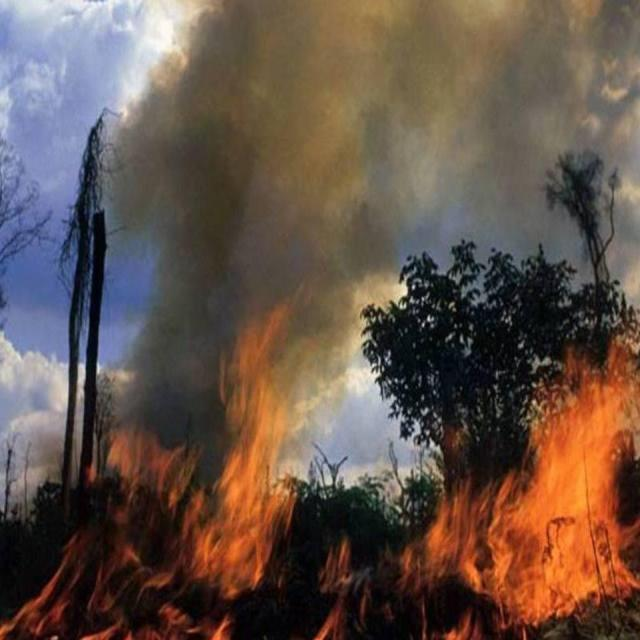Fire: (22, 321, 291, 639), (410, 304, 633, 638), (312, 531, 360, 634)
